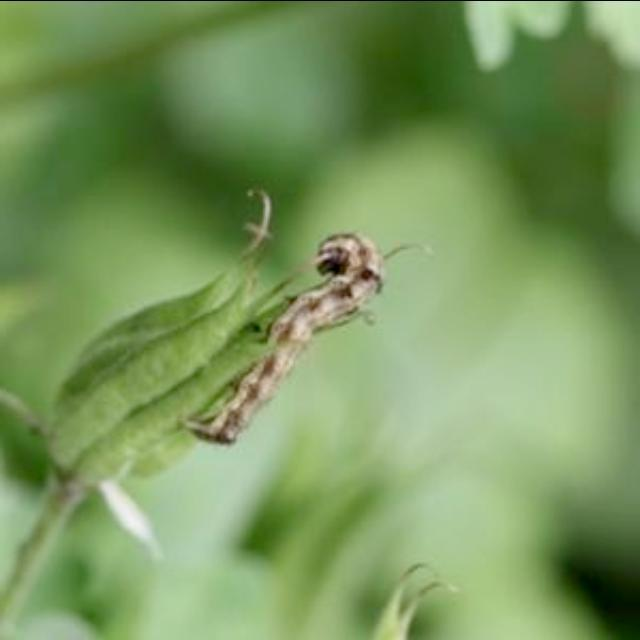Cotton bollworm: (168, 188, 436, 462)
